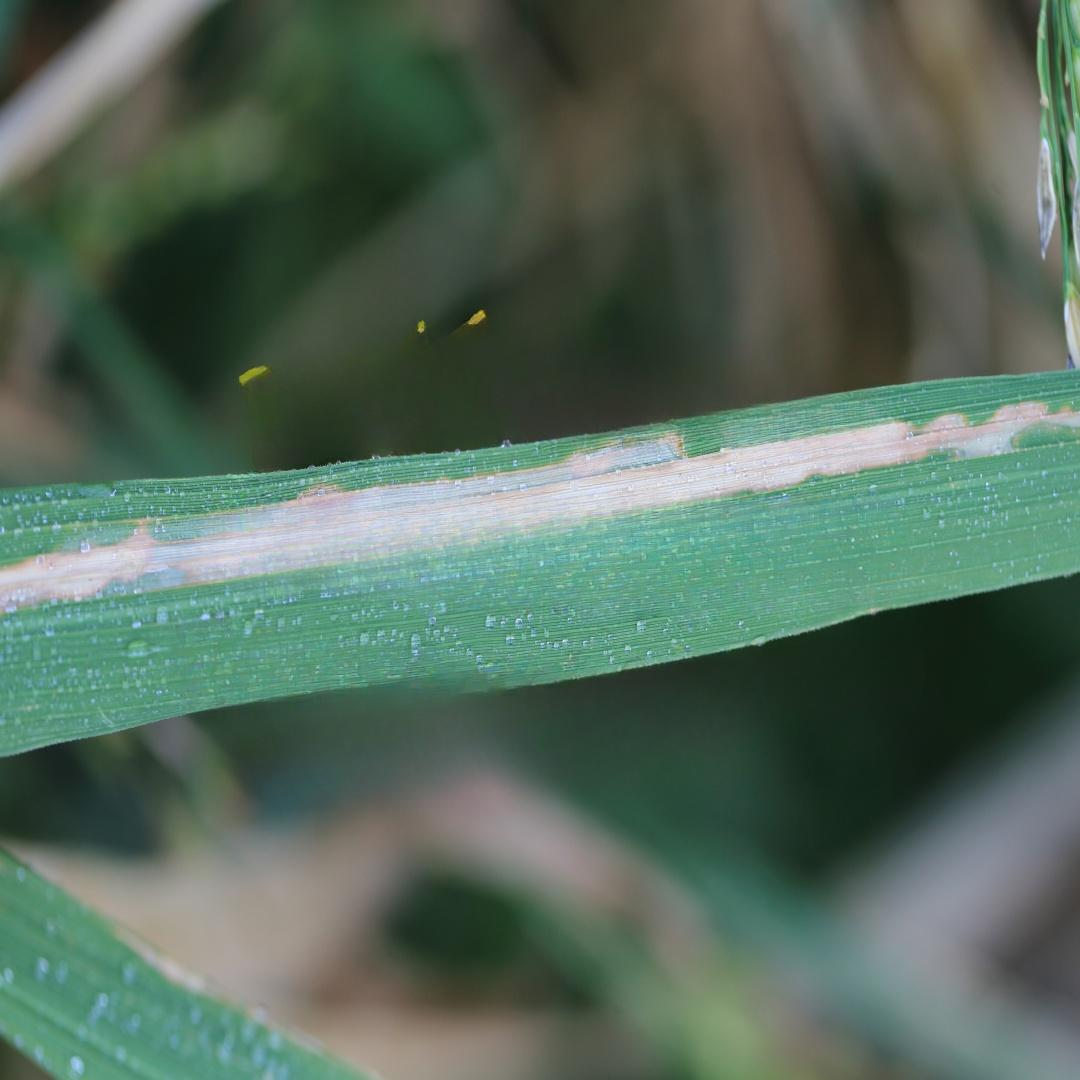BLB: (0, 399, 1078, 613)
LEAF: (0, 370, 1079, 754)
